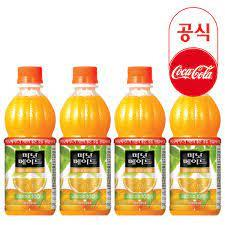minutemaid_org_orange: (3, 60, 62, 220), (60, 61, 114, 222), (114, 62, 169, 217), (168, 91, 222, 218)
